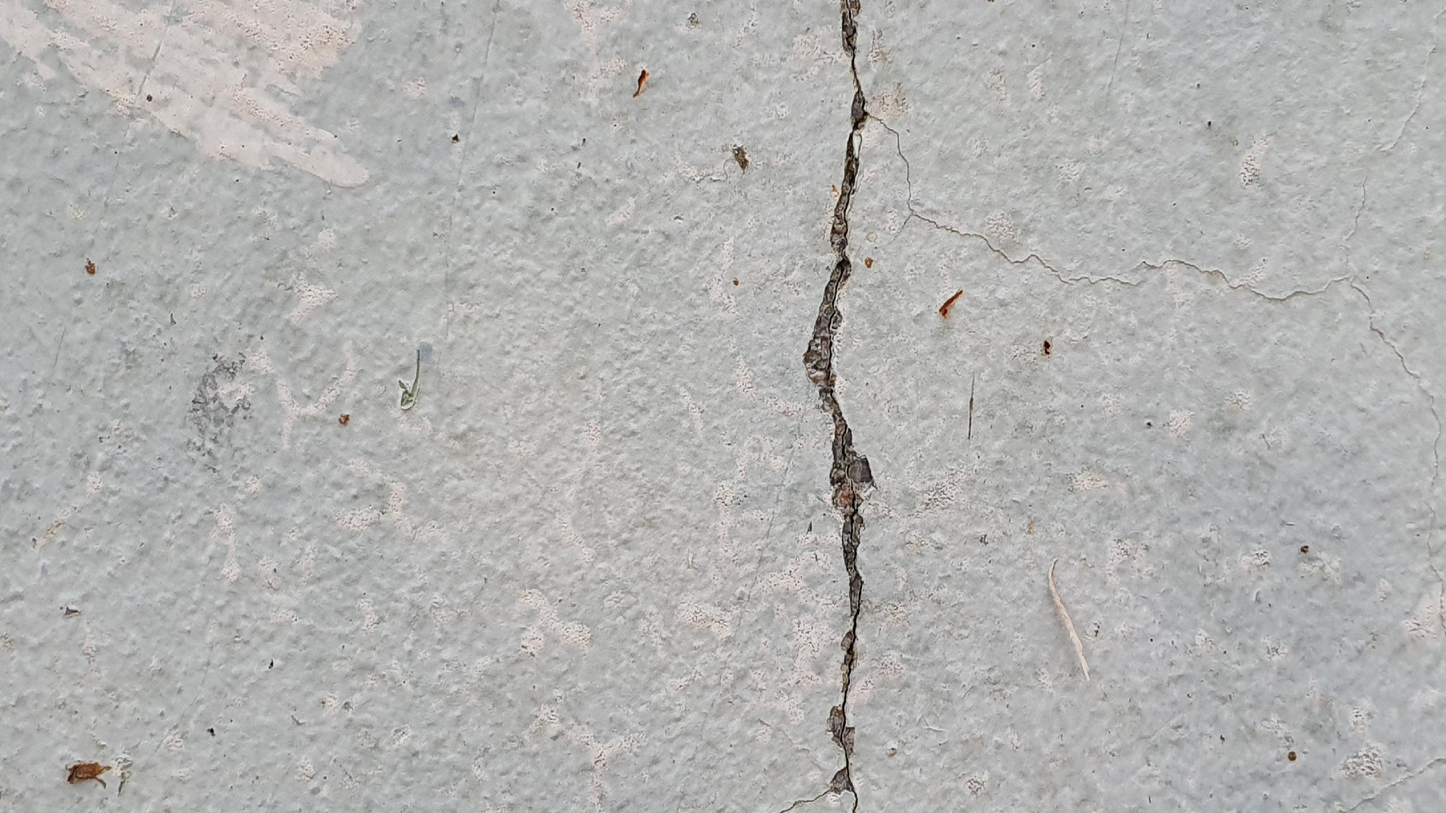crack: (802, 14, 889, 792)
